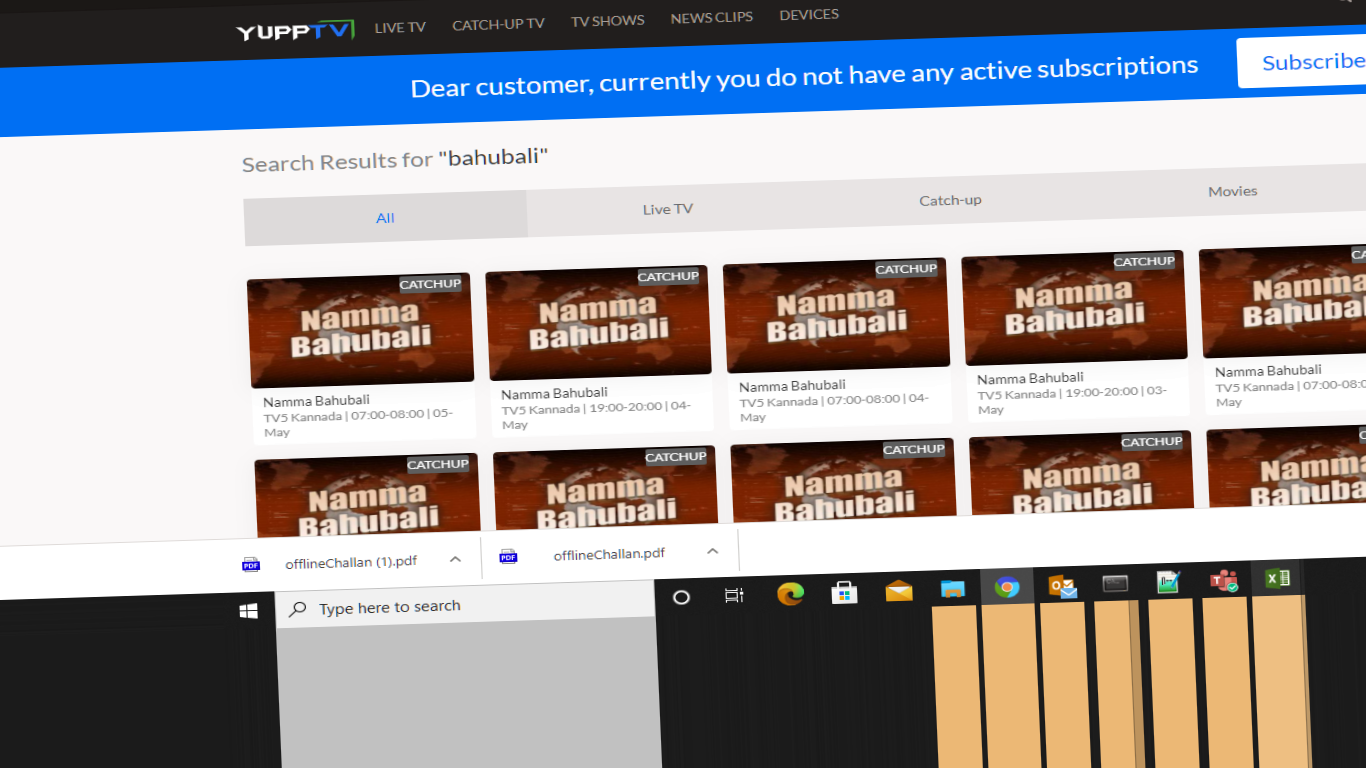resultsfound: (225, 129, 582, 194)
